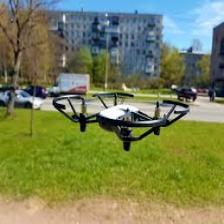drone: (53, 90, 191, 150)
